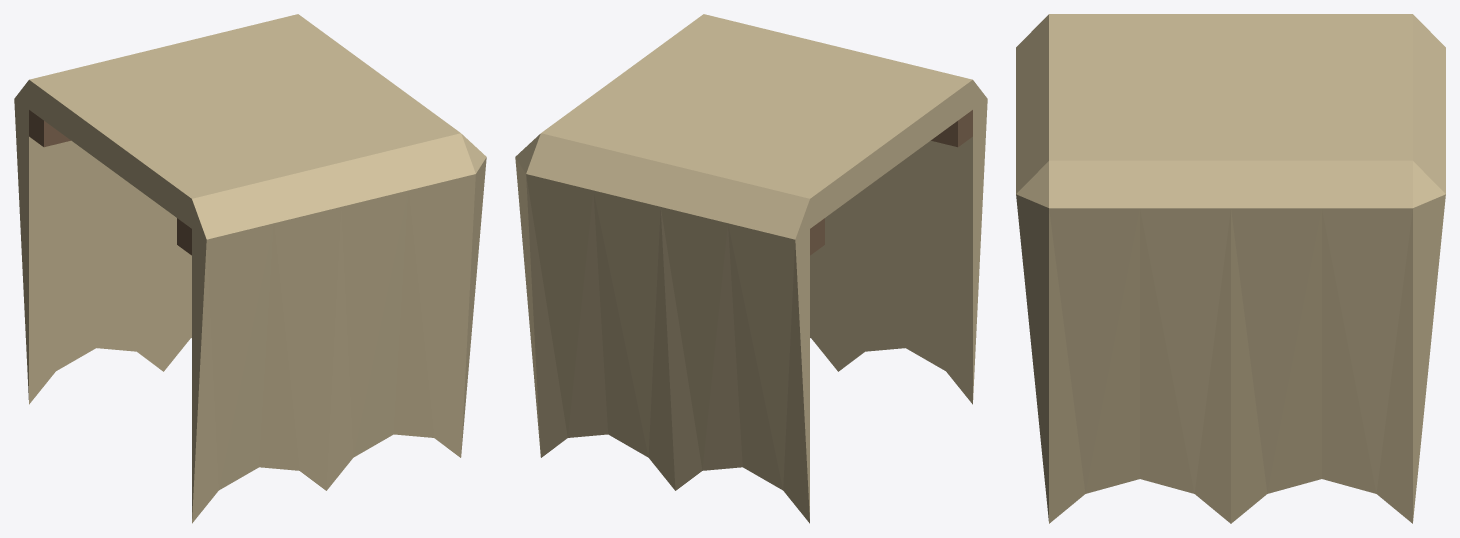
File: Canopy_Full.glb
3 views of the same model, side by side, from view 1: azimuth 30°, elevation 25°; view 2: azimuth 150°, elevation 25°; view 3: azimuth 270°, elevation 25° (orthographic). The views are drawn at different scales.
Parts seen in each view (by area): view 1: Canopy_Full; view 2: Canopy_Full; view 3: Canopy_Full.
Part boxes in pixels (x1,y1,x2,y2): Canopy_Full: (14,14,486,523); Canopy_Full: (515,14,987,523); Canopy_Full: (1016,14,1445,523).
Size of the model in its own units: 1.15 by 1.21 by 1.3.
